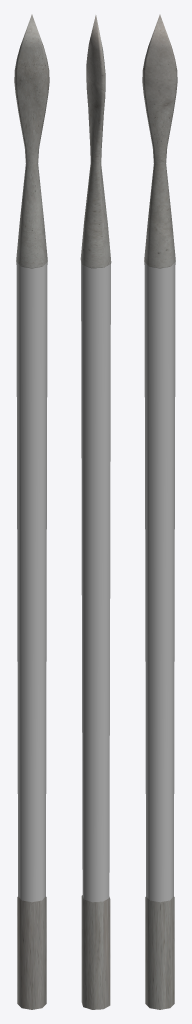
File: javeline st.fbx
3 views of the same model, side by side, from view 1: azimuth 90°, elevation 25°; view 2: azimuth 210°, elevation 25°; view 3: azimuth 270°, elevation 25° (orthographic).
Visible parts, largest first — view 1: Cylinder.029; view 2: Cylinder.029; view 3: Cylinder.029.
Boxes of the visible parts, x1,y1,x2,y2 form: Cylinder.029: [14, 14, 49, 1009]; Cylinder.029: [80, 15, 111, 1009]; Cylinder.029: [142, 14, 177, 1009].
Bounding box in the file's own units: 24.09 × 827 × 26.75.
